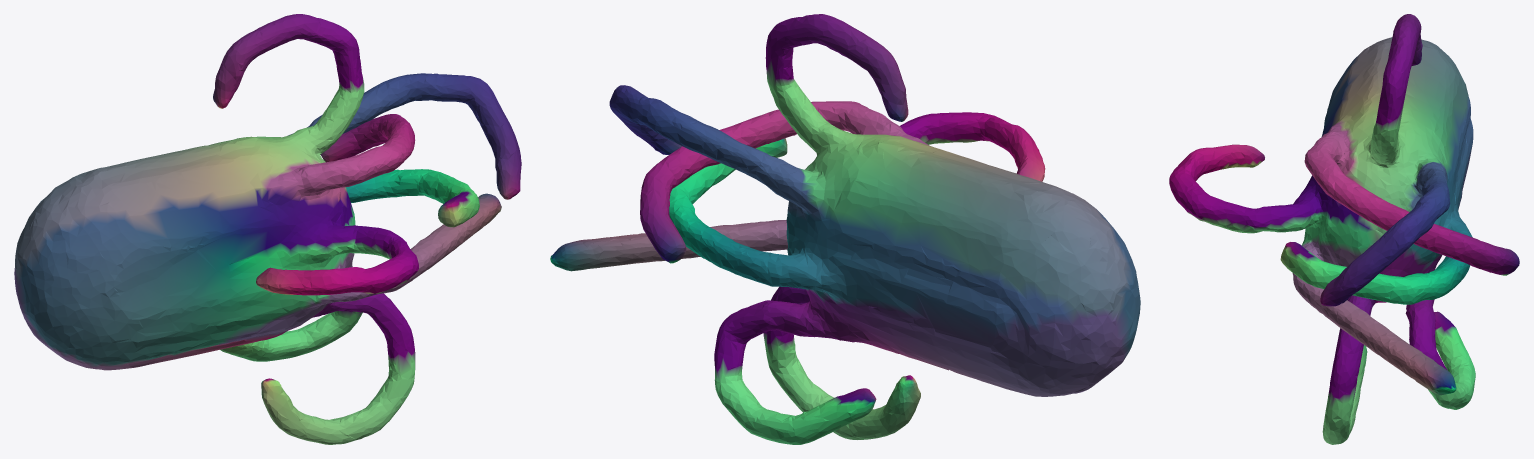
File: octopus-17.off.obj
3 renders of one model, left to right at view 1: azimuth 30°, elevation 25°; view 2: azimuth 150°, elevation 25°; view 3: azimuth 270°, elevation 25°, orthographic. The views are drawn at different scales.
Size of the model in its own units: 1.6 by 1.25 by 0.9843.
